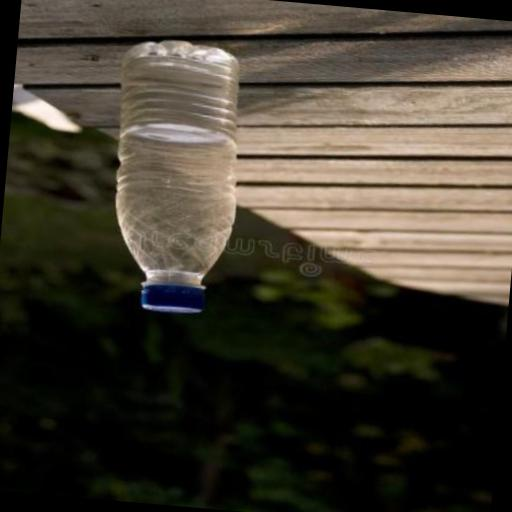Coca: (85, 26, 254, 328)
